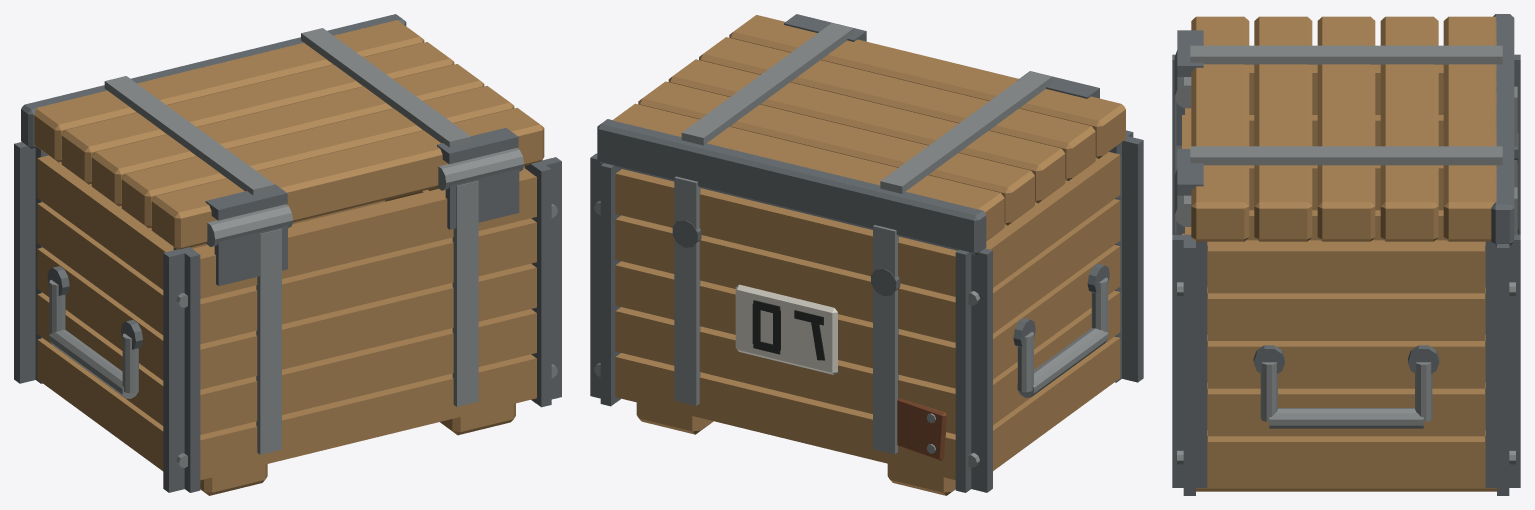
File: storage.glb
3 views of the same model, side by side, from view 1: azimuth 30°, elevation 25°; view 2: azimuth 150°, elevation 25°; view 3: azimuth 270°, elevation 25° (orthographic). The views are drawn at different scales.
Parts seen in each view (by area): view 1: storage; view 2: storage; view 3: storage.
Boxes of the visible parts, x1,y1,x2,y2 form: storage: [14, 14, 561, 495]; storage: [590, 14, 1143, 495]; storage: [1172, 14, 1520, 495].
Bounding box in the file's own units: 1.4 × 0.9845 × 0.994.
